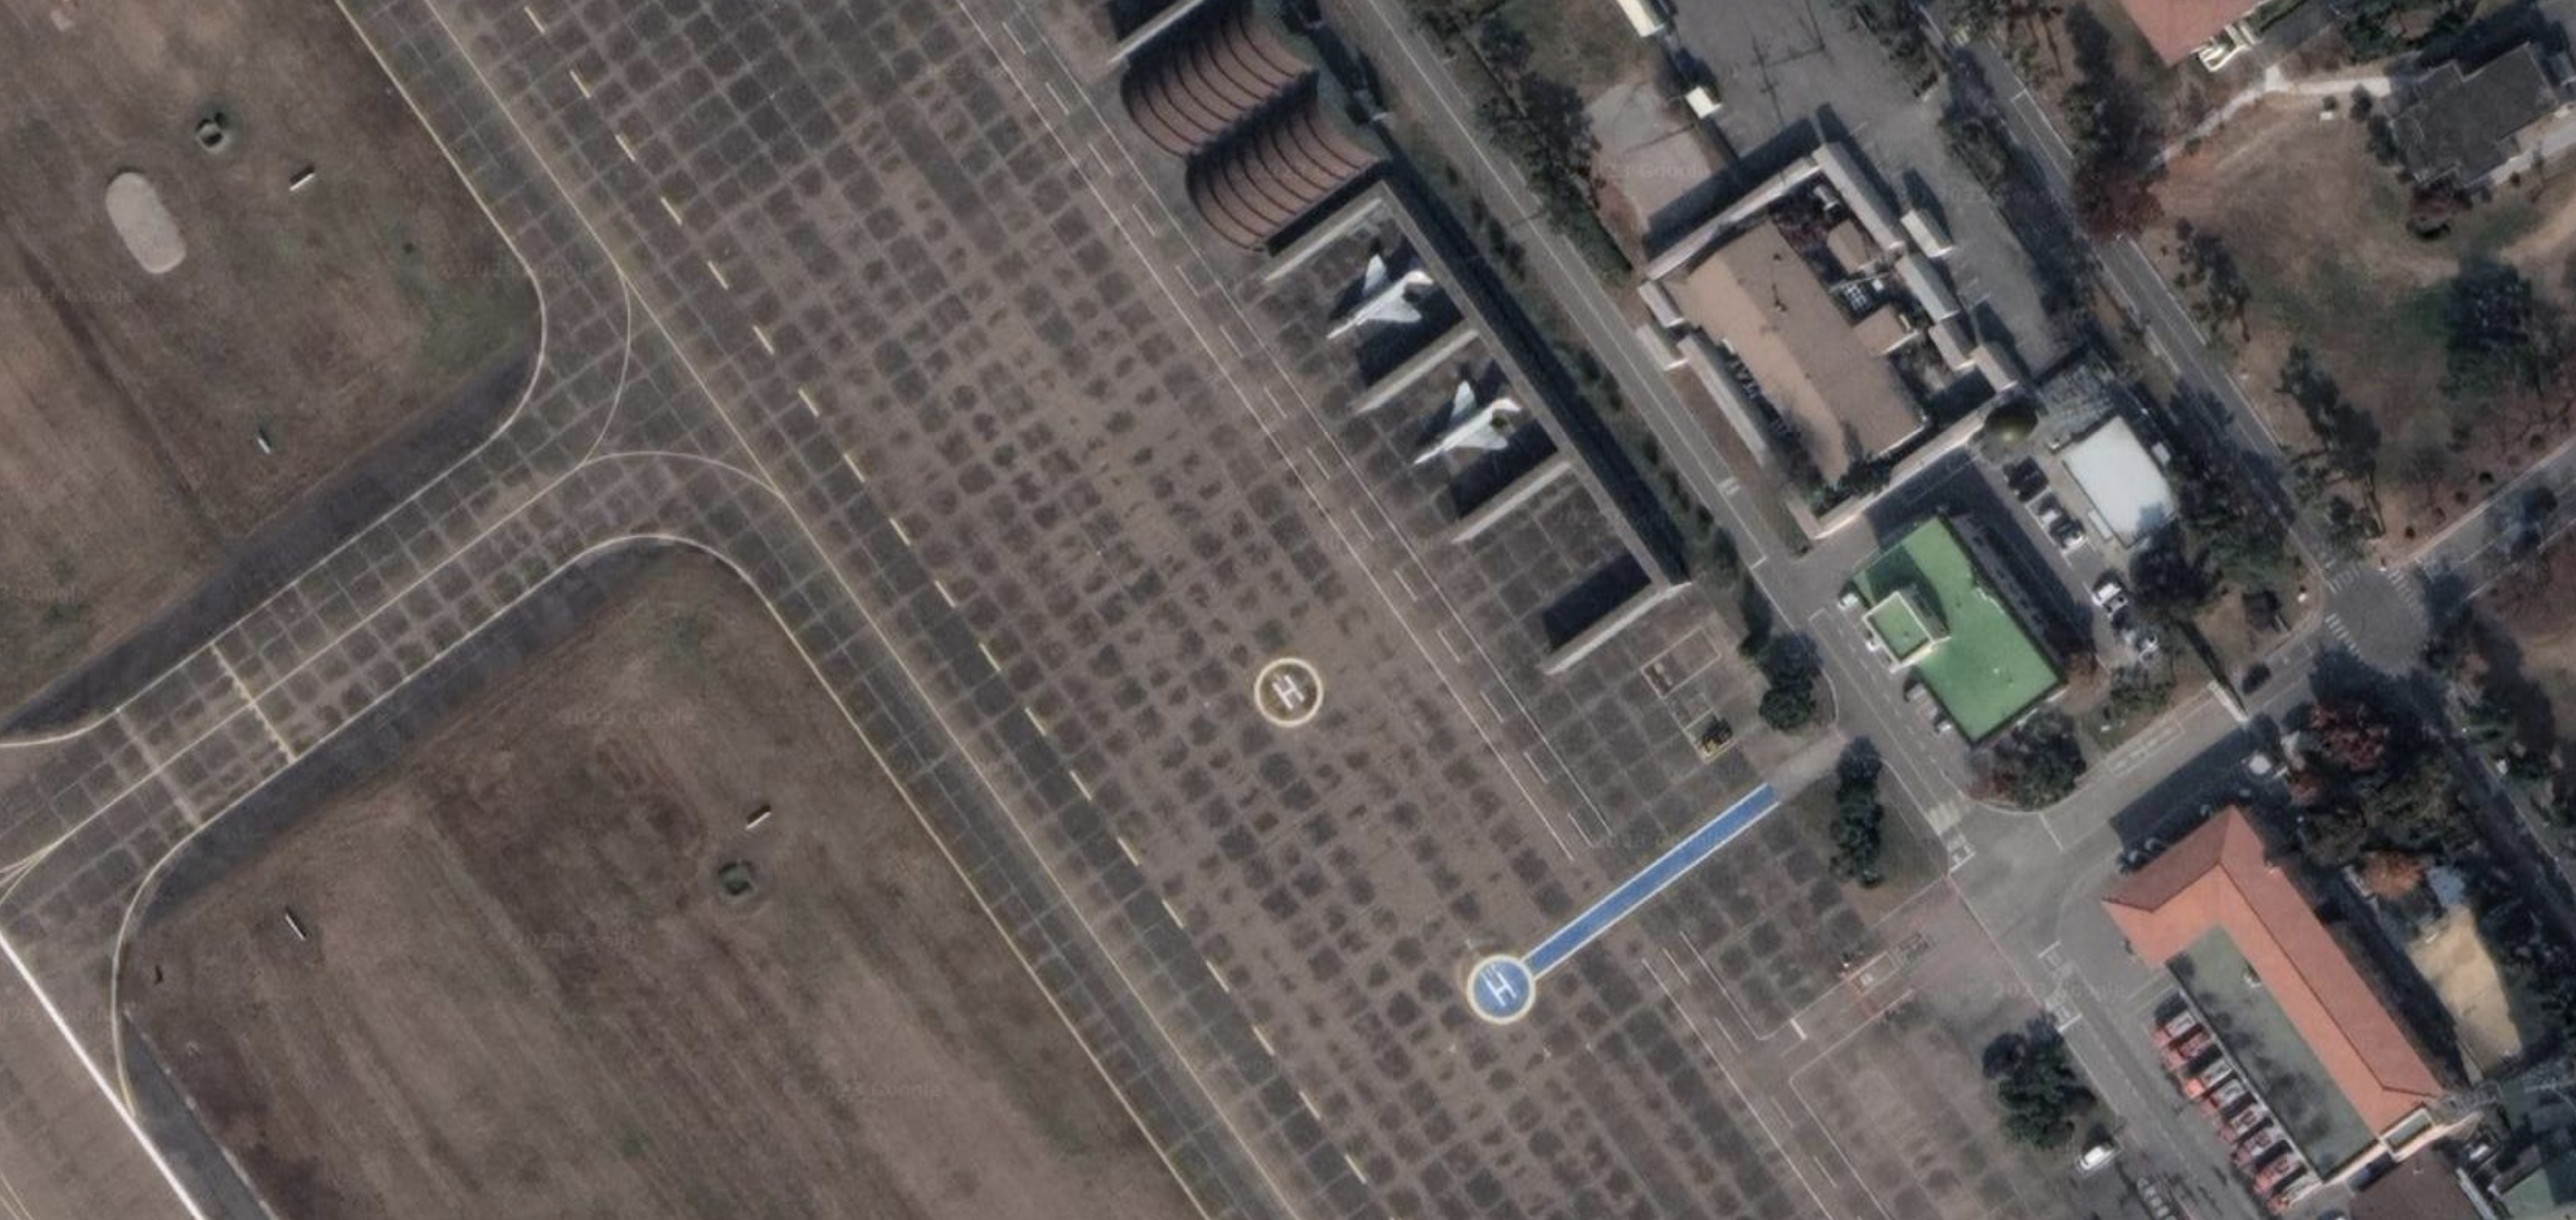F4: (1410, 381, 1521, 468), (1323, 253, 1434, 340)
